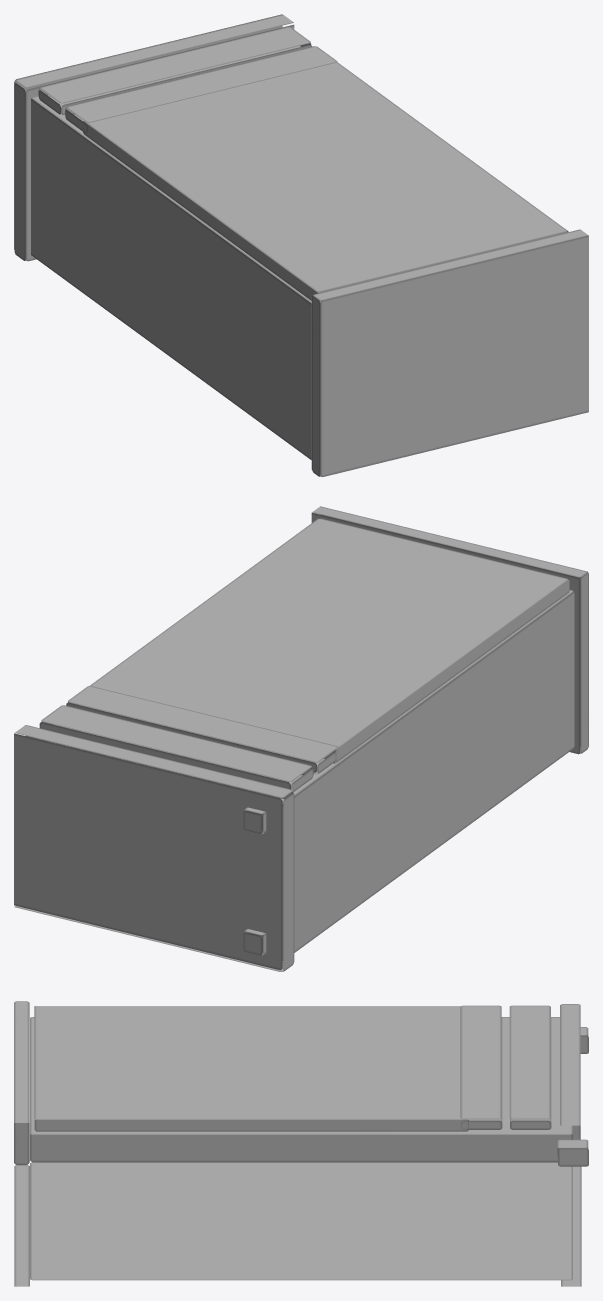
The model's file is pz_wardrobe_storage_01_fancy_oak_0_0.obj.
The picture shows the model from 3 angles, top to bottom: view 1: azimuth 30°, elevation 25°; view 2: azimuth 150°, elevation 25°; view 3: azimuth 270°, elevation 25°; orthographic projection. The views are drawn at different scales.
Bounding box in the file's own units: 0.995 × 0.625 × 1.99.
1 material, 1 textured.
